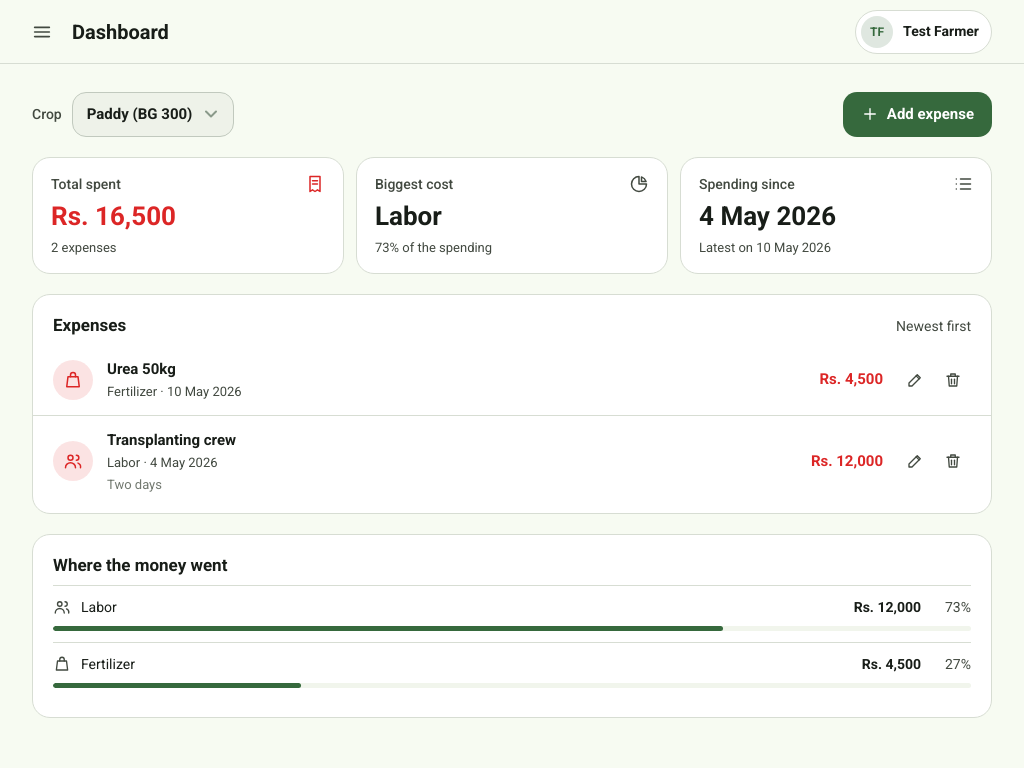
Test: ExpensesPage › deletes an expense after confirmation
Click the button named "Delete Urea 50kg".
click(953, 380)  # box [935,362,971,398]
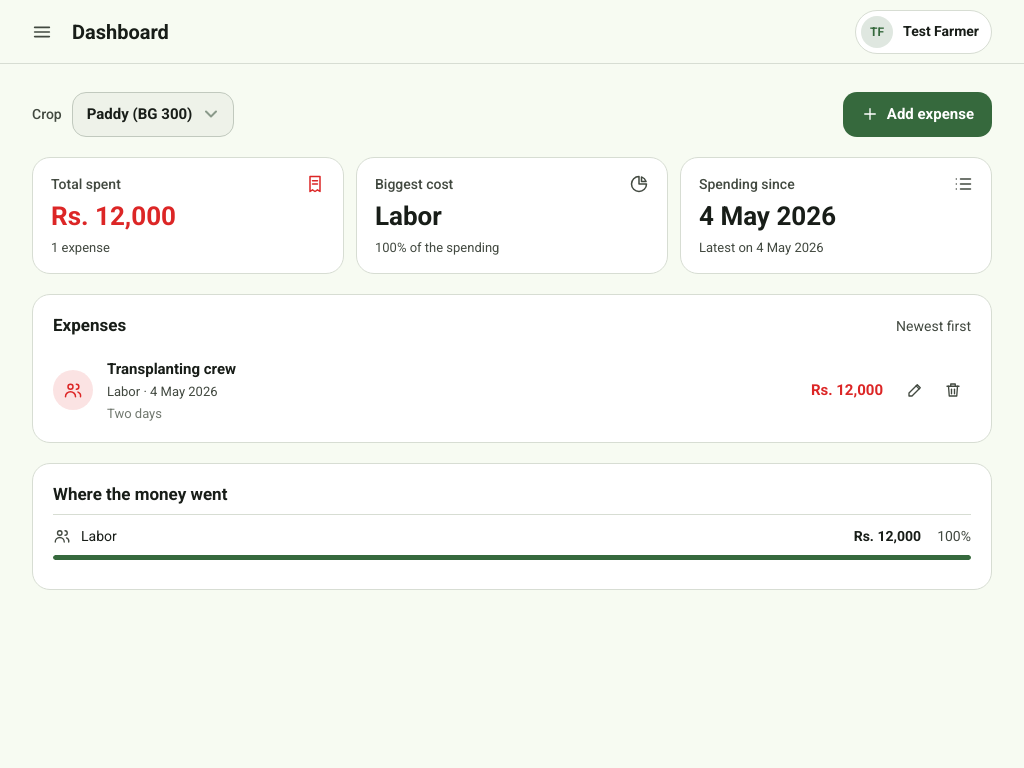
Now the text "Urea 50kg" is gone
